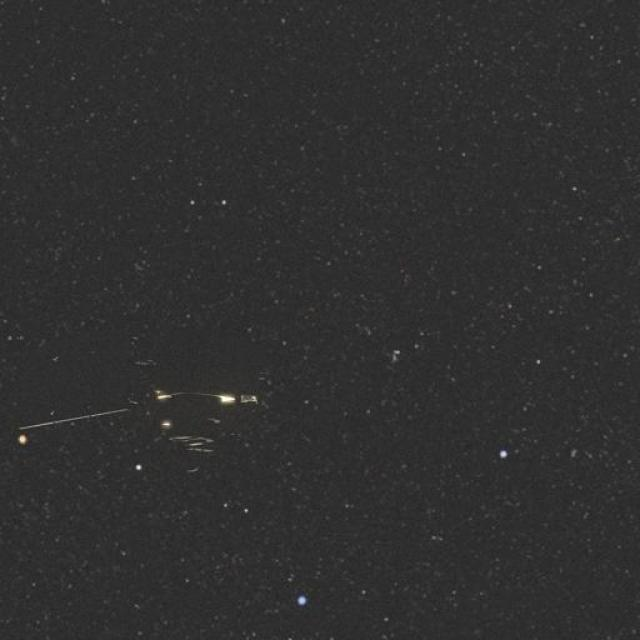earth_observation_sat_1: (2, 363, 296, 461)
